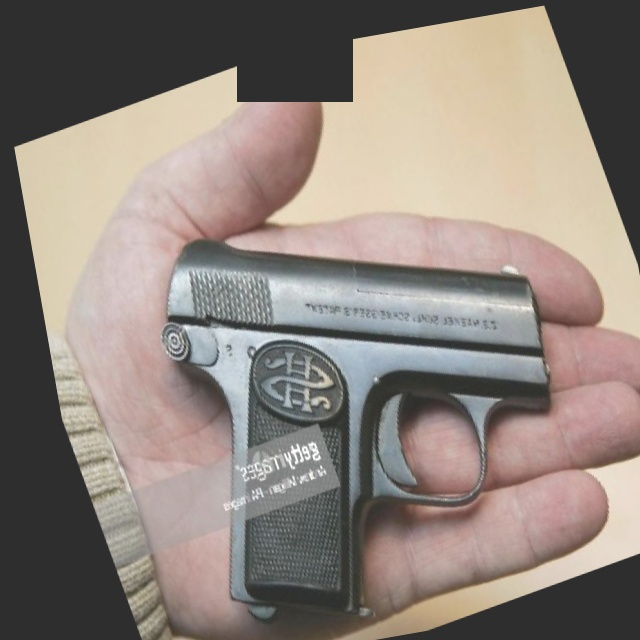gun: (98, 121, 629, 640)
